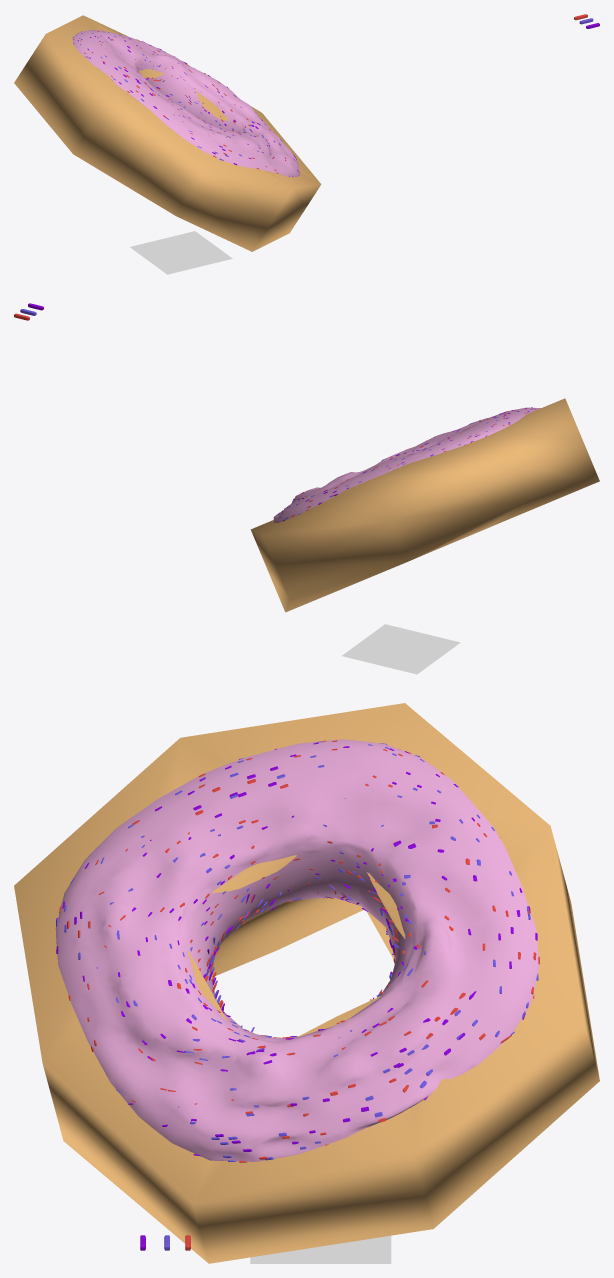
File: Dnut.glb
The picture shows the model from 3 angles, top to bottom: view 1: azimuth 30°, elevation 25°; view 2: azimuth 150°, elevation 25°; view 3: azimuth 270°, elevation 25°; orthographic projection. The views are drawn at different scales.
Visible parts, largest first — view 1: Cube, Cube.001, Plane; view 2: Cube, Cube.001, Plane; view 3: Cube.001, Cube, Plane.
Part boxes in pixels (<box>): Cube: <box>14,15,321,251</box>; Cube.001: <box>73,30,299,177</box>; Plane: <box>130,231,232,274</box>; Cube: <box>250,398,599,612</box>; Cube.001: <box>273,407,540,522</box>; Plane: <box>342,624,460,674</box>; Cube.001: <box>55,739,539,1161</box>; Cube: <box>14,703,599,1263</box>; Plane: <box>250,1235,391,1263</box>.
Size of the model in its own units: 15.58 by 6.7 by 8.3.
